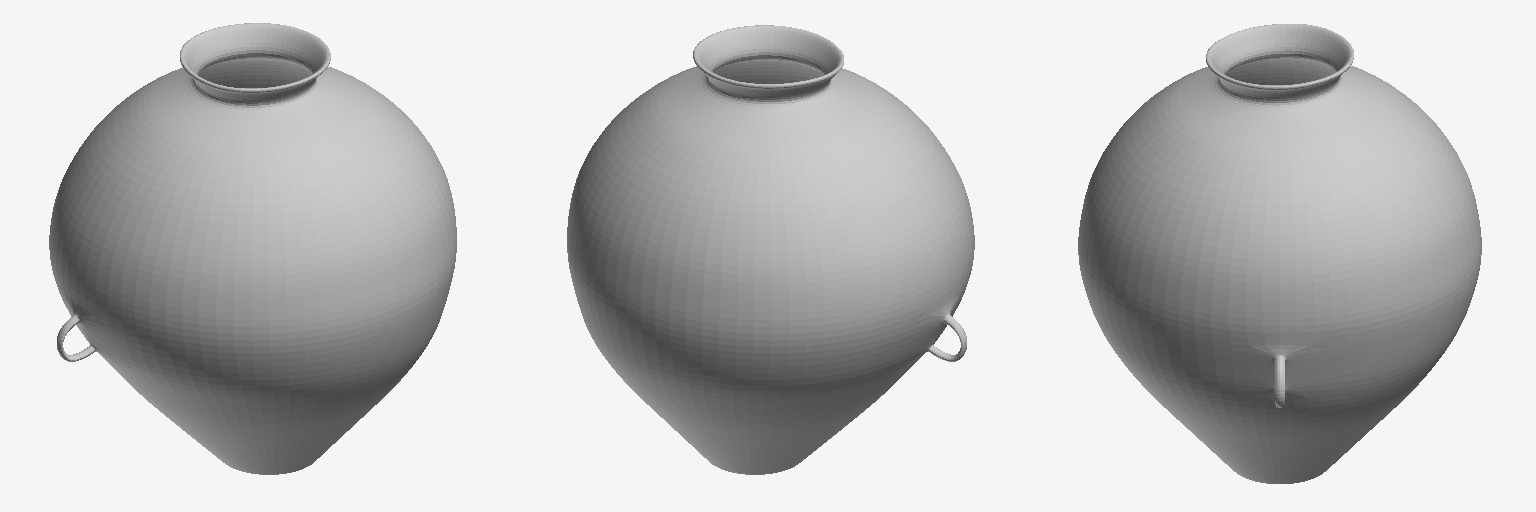
File: wawen.obj
3 renders of one model, left to right at view 1: azimuth 30°, elevation 25°; view 2: azimuth 150°, elevation 25°; view 3: azimuth 270°, elevation 25°, orthographic.
Visible parts, largest first — view 1: Cylinder001; view 2: Cylinder001; view 3: Cylinder001.
Boxes of the visible parts, x1,y1,x2,y2 form: Cylinder001: [49, 23, 456, 474]; Cylinder001: [567, 25, 974, 474]; Cylinder001: [1078, 24, 1481, 483].
Size of the model in its own units: 268 by 262 by 237.